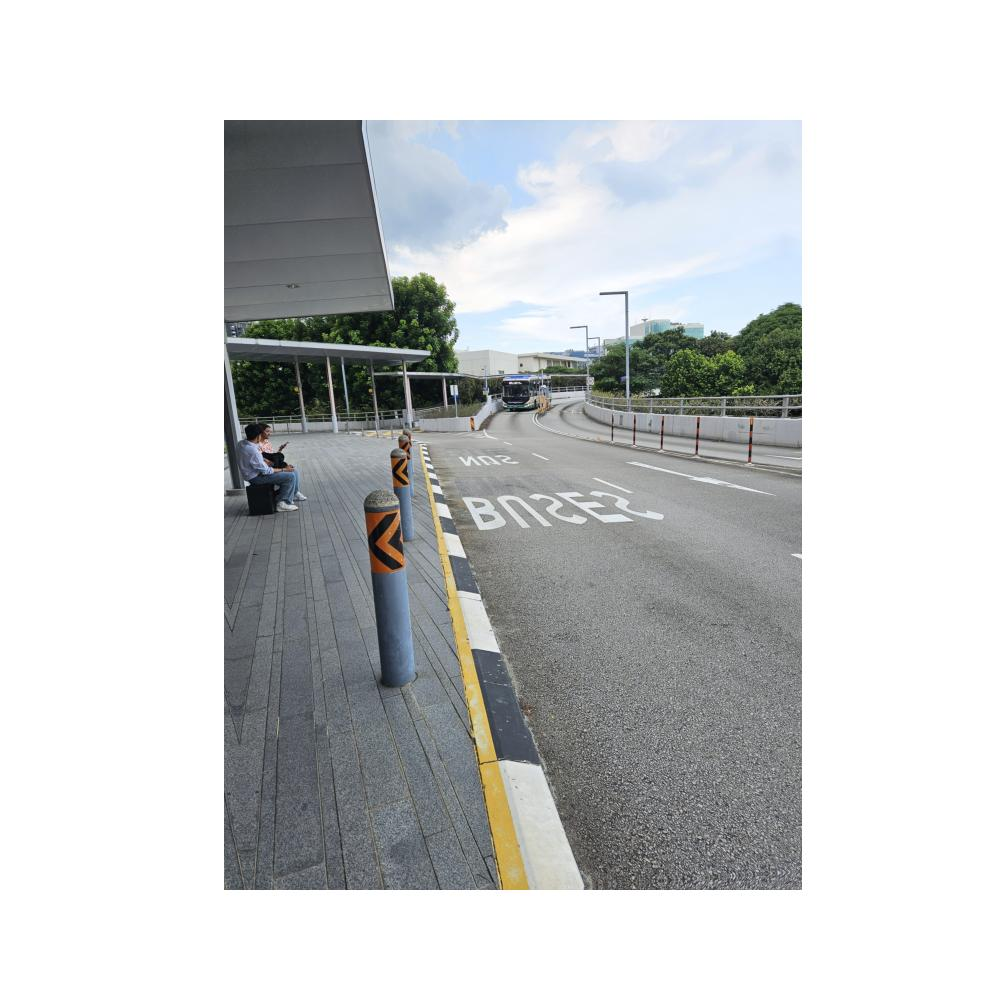bus: (496, 372, 545, 412)
